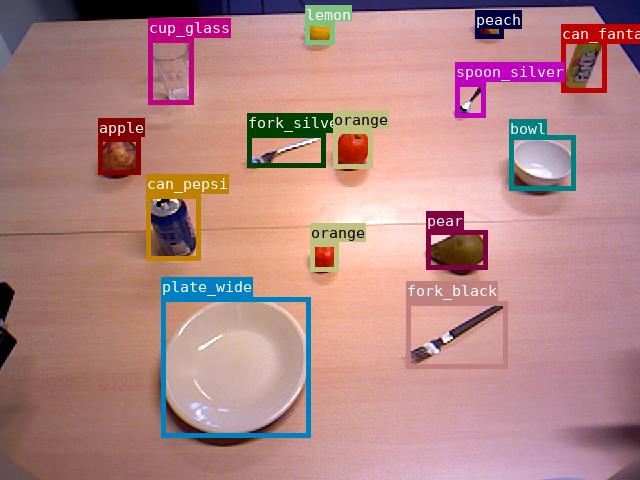apple: (98, 137, 140, 174)
bowl: (509, 135, 575, 190)
can_fanta: (561, 24, 606, 92)
can_pepsi: (146, 194, 200, 260)
cup_glass: (148, 38, 193, 104)
fork_black: (406, 301, 507, 368)
fork_silver: (247, 133, 325, 167)
lemon: (305, 21, 334, 44)
orange: (333, 129, 372, 168), (310, 242, 338, 271)
peach: (475, 10, 503, 38)
pear: (426, 230, 487, 269)
plate_wide: (161, 297, 310, 437)
spoon_silver: (455, 82, 485, 117)
